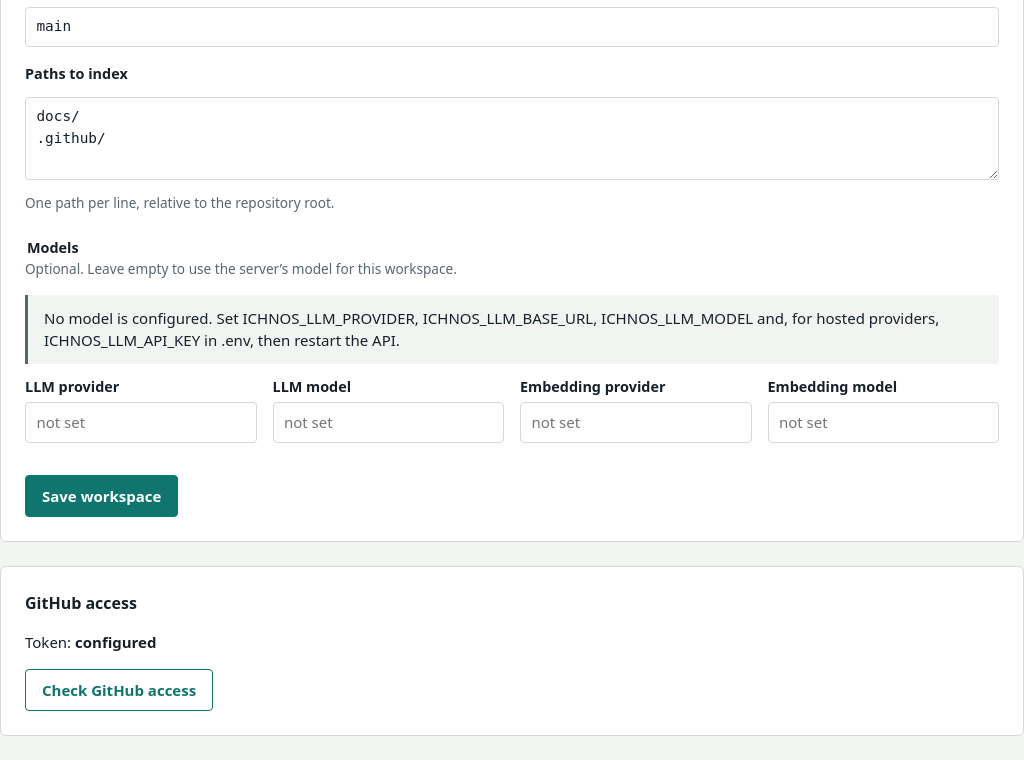
WorkspacePanel › checks GitHub access for a saved workspace
(page scrolled)
Expected: the text "configured" is shown, left=75, top=632, right=156, bottom=652
What coordinates should you click on to do the following:
click the button "Check GitHub access"
I would click on:
 (119, 690)
Its box is left=25, top=669, right=213, bottom=712.
(page scrolled)
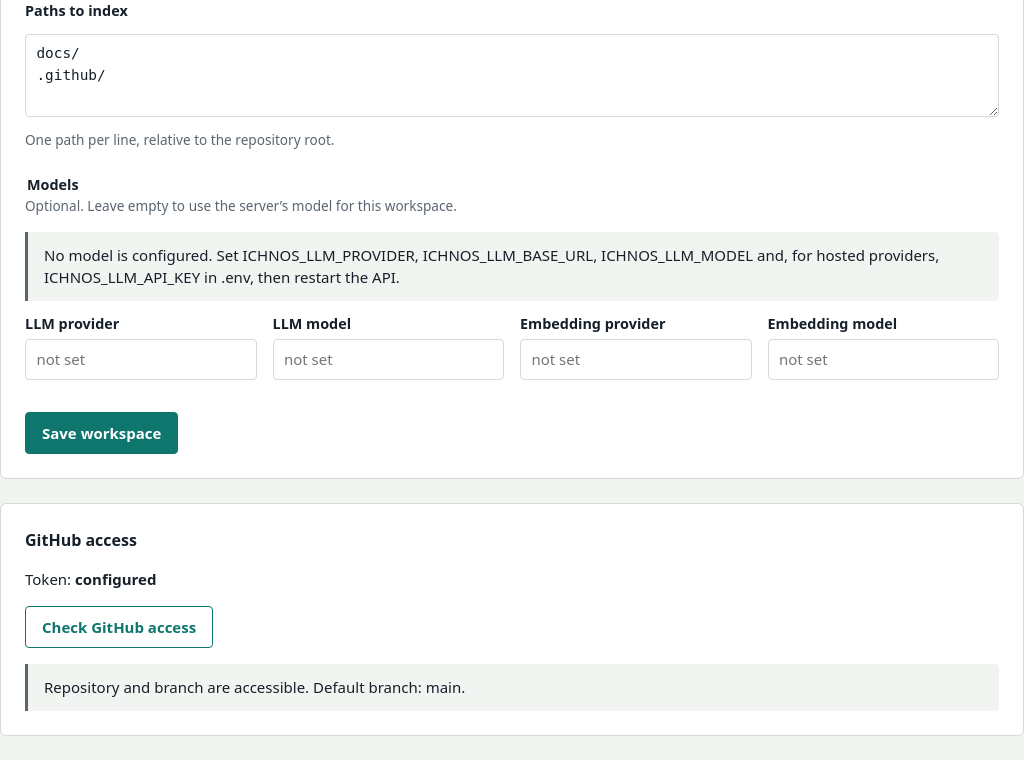
Expected: the text "Repository and branch are accessible. Default branch: main." is shown, left=25, top=664, right=999, bottom=711
